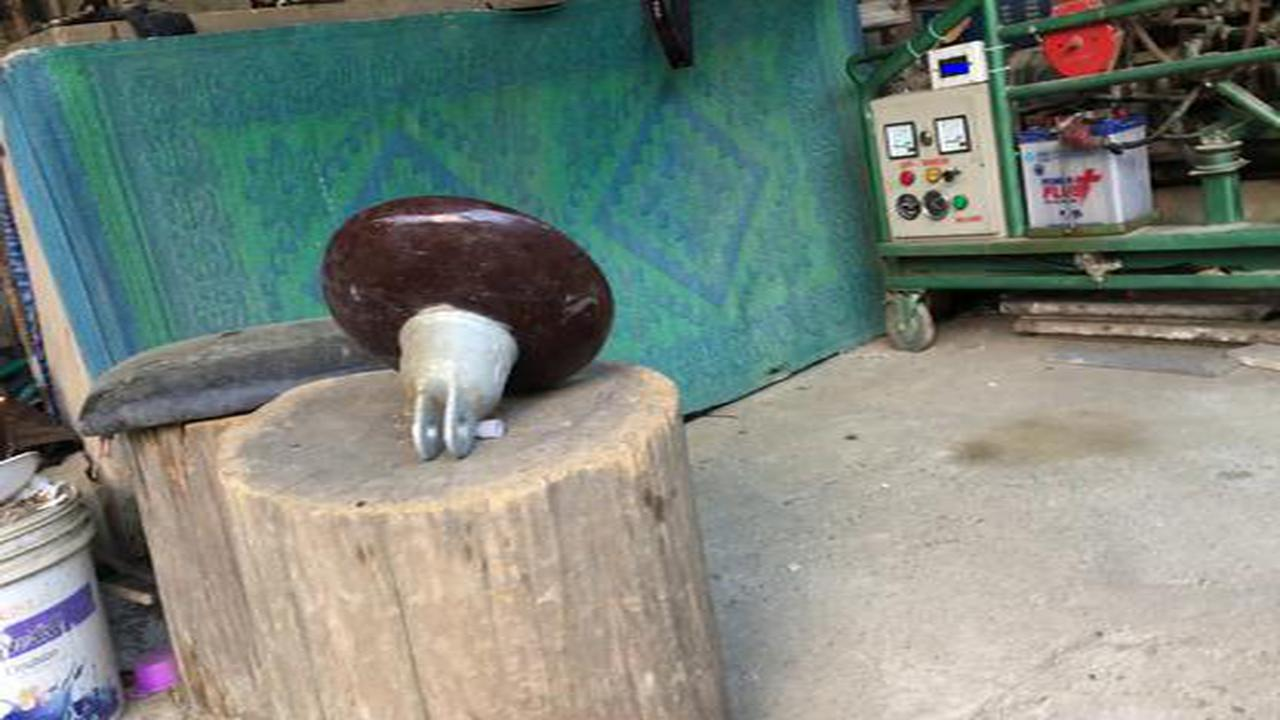insulator_disc: (318, 194, 622, 469)
